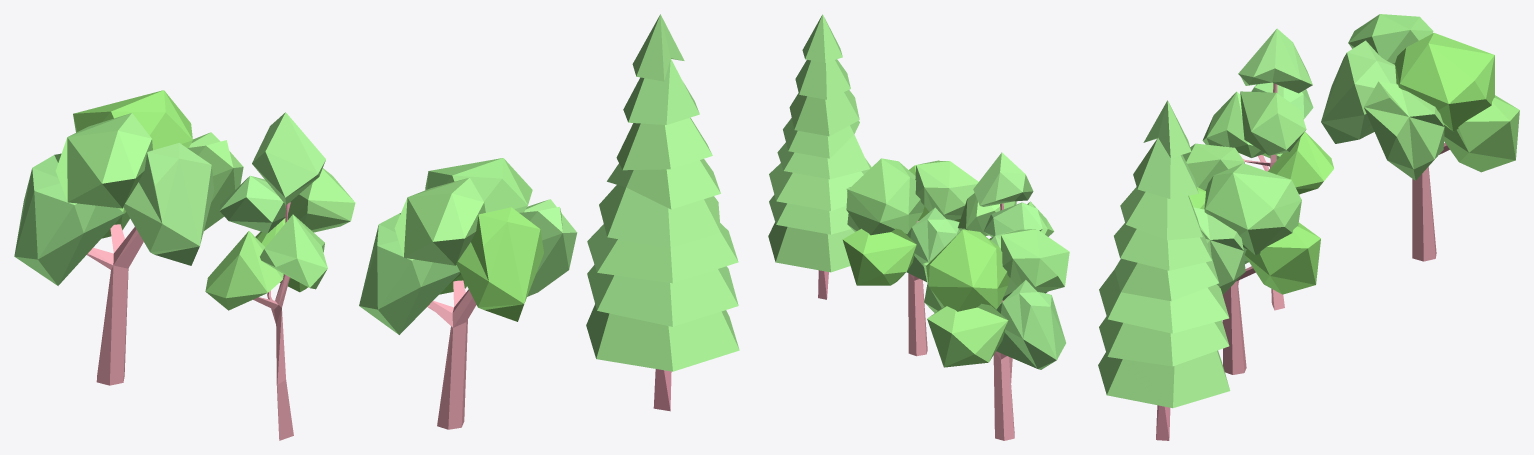
Rendered from ForestSide4.fbx.
3 renders of one model, left to right at view 1: azimuth 30°, elevation 25°; view 2: azimuth 150°, elevation 25°; view 3: azimuth 270°, elevation 25°, orthographic. The views are drawn at different scales.
Visible parts, largest first — view 1: Forest.004; view 2: Forest.004; view 3: Forest.004.
Part boxes in pixels (x1,y1,x2,y2): Forest.004: (14, 14, 739, 440); Forest.004: (768, 14, 1069, 440); Forest.004: (1098, 14, 1519, 440).
Size of the model in its own units: 529 by 360 by 403.
